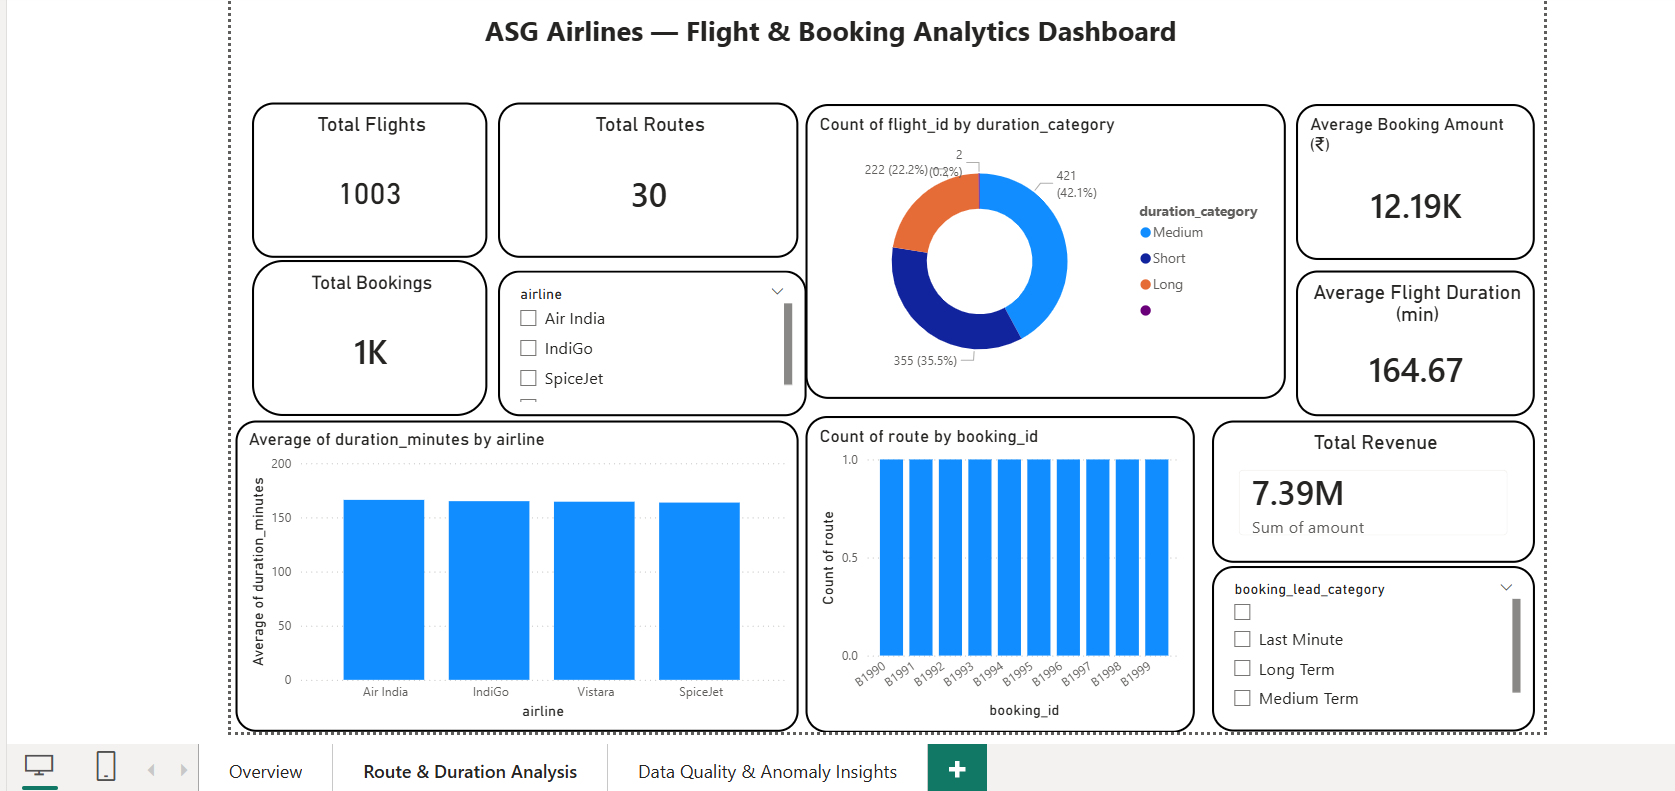

This screenshot's page, from the dashboard's own definition file:
{"tool":"powerbi","page":{"name":"Route & Duration Analysis","canvas":[1280,720],"ordinal":1},"visuals":[{"type":"card","title":"Total Flights","fields":{"Values":["CountNonNull(dim_flights.flight_id)"]},"box":[19.9,106,229.2,151],"z":0},{"type":"cardVisual","title":"Total Bookings","fields":{"Data":["CountNonNull(fact_bookings.booking_id)"]},"box":[19.9,259.6,229.2,152.3],"z":1000},{"type":"cardVisual","title":"Total Routes","fields":{"Data":["Count(dim_flights.route)"]},"box":[259.6,106,292.7,151],"z":2000},{"type":"cardVisual","title":"Average Flight Duration (min)","fields":{"Data":["Avg(dim_flights.duration_minutes)"]},"box":[1038.3,269.7,232.5,142.1],"z":3000},{"type":"cardVisual","title":"Average Booking Amount (₹)","fields":{"Data":["Avg(fact_bookings.amount)"]},"box":[1038.3,108.2,232.5,151.8],"z":4000},{"type":"clusteredColumnChart","fields":{"Category":["fact_bookings.airline"],"Y":["Avg(fact_bookings.duration_minutes)"]},"box":[4,417.2,548.4,303.3],"z":5000},{"type":"donutChart","fields":{"Category":["fact_bookings.duration_category"],"Y":["CountNonNull(fact_bookings.flight_id)"]},"box":[560.3,108.2,468.3,287.4],"z":6000},{"type":"clusteredColumnChart","fields":{"Category":["fact_bookings.booking_id"],"Y":["CountNonNull(fact_bookings.route)"]},"box":[560.3,411.8,379.5,308.4],"z":7000},{"type":"cardVisual","title":"Total Revenue","fields":{"Data":["Sum(fact_bookings.amount)"]},"box":[956,416.6,314.9,138.9],"z":8000},{"type":"textbox","box":[100.1,12.9,967.3,63],"z":9000},{"type":"slicer","fields":{"Values":["fact_bookings.booking_lead_category"]},"box":[956,558.7,314.9,161.5],"z":10000},{"type":"slicer","fields":{"Values":["dim_flights.airline"]},"box":[260,269.7,300.4,142.1],"z":11000}]}

Visuals, with their boxes on the page's 1280x720 design canvas (x1, y1, x2, y2). These are canvas units, not pixel positions in the 1675x791 screenshot, which may show the page scaled, cropped or inside an application window:
"Total Flights" card: 20:106:249:257
"Total Bookings" cardVisual: 20:260:249:412
"Total Routes" cardVisual: 260:106:552:257
"Average Flight Duration (min)" cardVisual: 1038:270:1271:412
"Average Booking Amount (₹)" cardVisual: 1038:108:1271:260
clusteredColumnChart - fact_bookings.airline x Avg(fact_bookings.duration_minutes): 4:417:552:720
donutChart - fact_bookings.duration_category x CountNonNull(fact_bookings.flight_id): 560:108:1029:396
clusteredColumnChart - fact_bookings.booking_id x CountNonNull(fact_bookings.route): 560:412:940:720
"Total Revenue" cardVisual: 956:417:1271:556
textbox: 100:13:1067:76
slicer - fact_bookings.booking_lead_category: 956:559:1271:720
slicer - dim_flights.airline: 260:270:560:412
